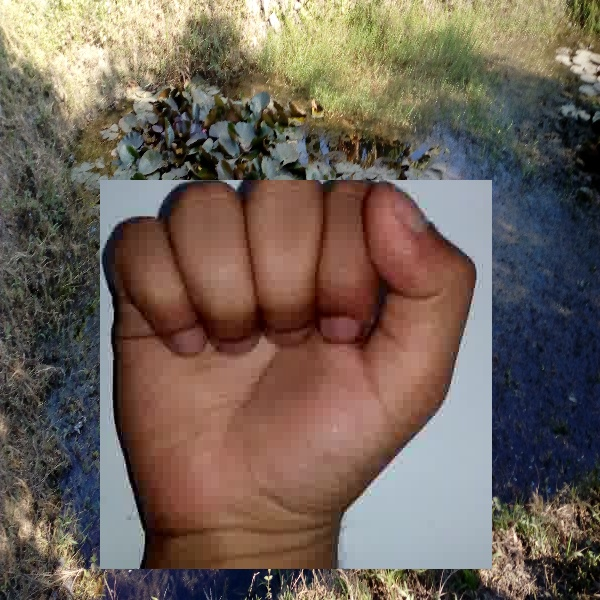A: (100, 180, 492, 569)
